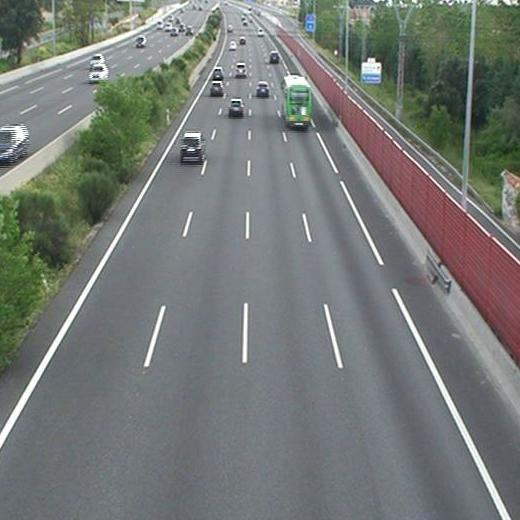bus: (282, 75, 311, 127)
car: (180, 134, 202, 159), (229, 99, 245, 113), (255, 82, 269, 95), (211, 82, 224, 95), (234, 63, 246, 76), (212, 67, 224, 79), (269, 51, 279, 63), (238, 36, 247, 45), (229, 40, 236, 51)
